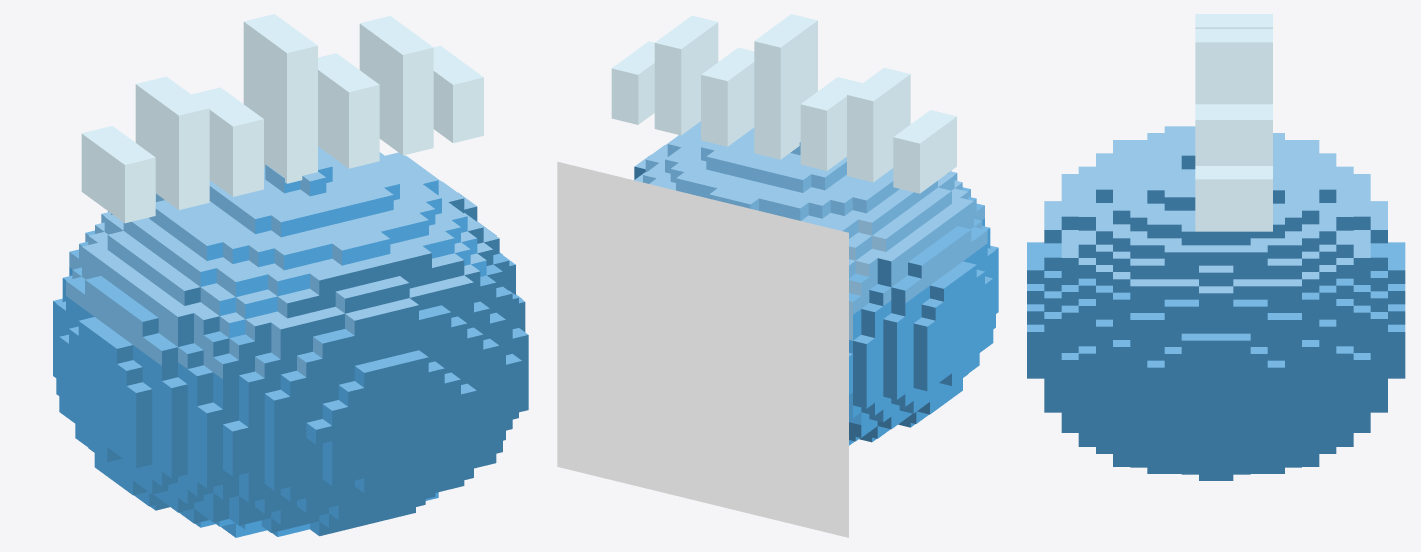
Rendered from slime_cryo_large.glb.
The picture shows the model from 3 angles, left to right: view 1: azimuth 30°, elevation 25°; view 2: azimuth 150°, elevation 25°; view 3: azimuth 270°, elevation 25°; orthographic projection. The views are drawn at different scales.
Parts seen in each view (by area): view 1: Shell, ElementDetails; view 2: Face, Shell, ElementDetails; view 3: Shell, ElementDetails.
Boxes of the visible parts, x1,y1,x2,y2 form: Shell: (53,146,528,537); ElementDetails: (81,14,483,223); Face: (557,161,848,537); Shell: (634,121,998,445); ElementDetails: (611,14,956,193); Shell: (1027,126,1405,480); ElementDetails: (1195,14,1272,231).
Size of the model in its own units: 1.92 by 2.27 by 1.83.
